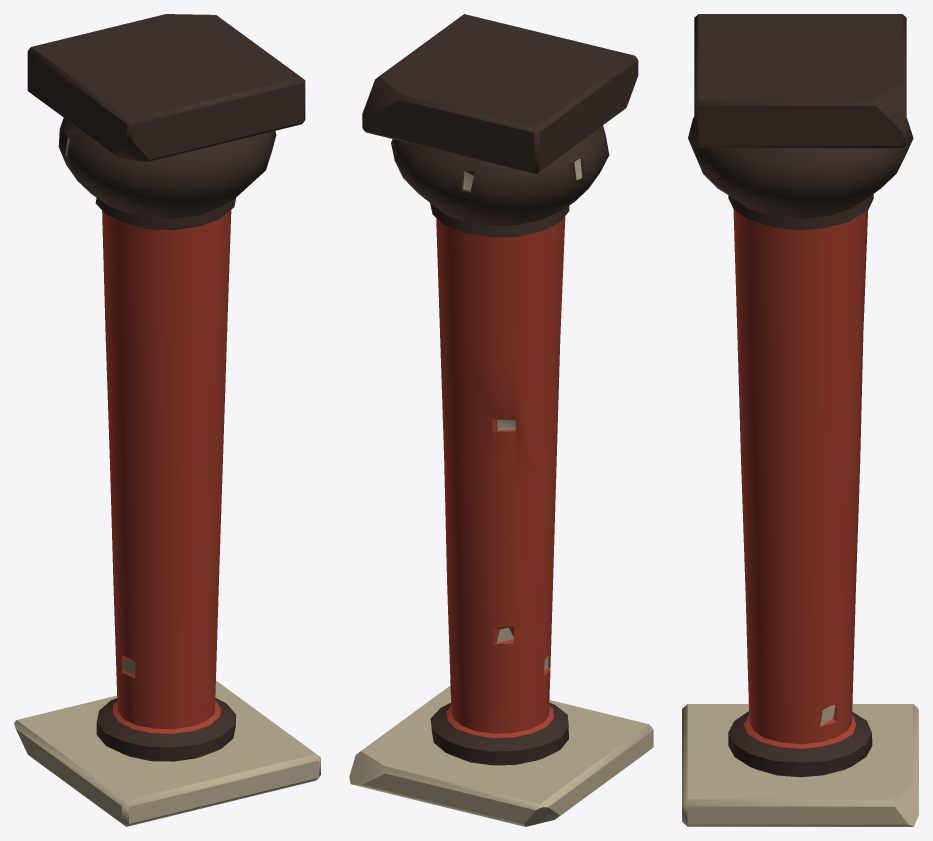
The model's file is column-minoan-0.glb.
3 renders of one model, left to right at view 1: azimuth 30°, elevation 25°; view 2: azimuth 150°, elevation 25°; view 3: azimuth 270°, elevation 25°, orthographic. The views are drawn at different scales.
Parts seen in each view (by area): view 1: column-minoan-0; view 2: column-minoan-0; view 3: column-minoan-0.
Part boxes in pixels (x1,y1,x2,y2): column-minoan-0: [14, 14, 320, 826]; column-minoan-0: [349, 14, 653, 826]; column-minoan-0: [682, 14, 918, 826].
Bounding box in the file's own units: 0.78 × 2.62 × 0.78.
